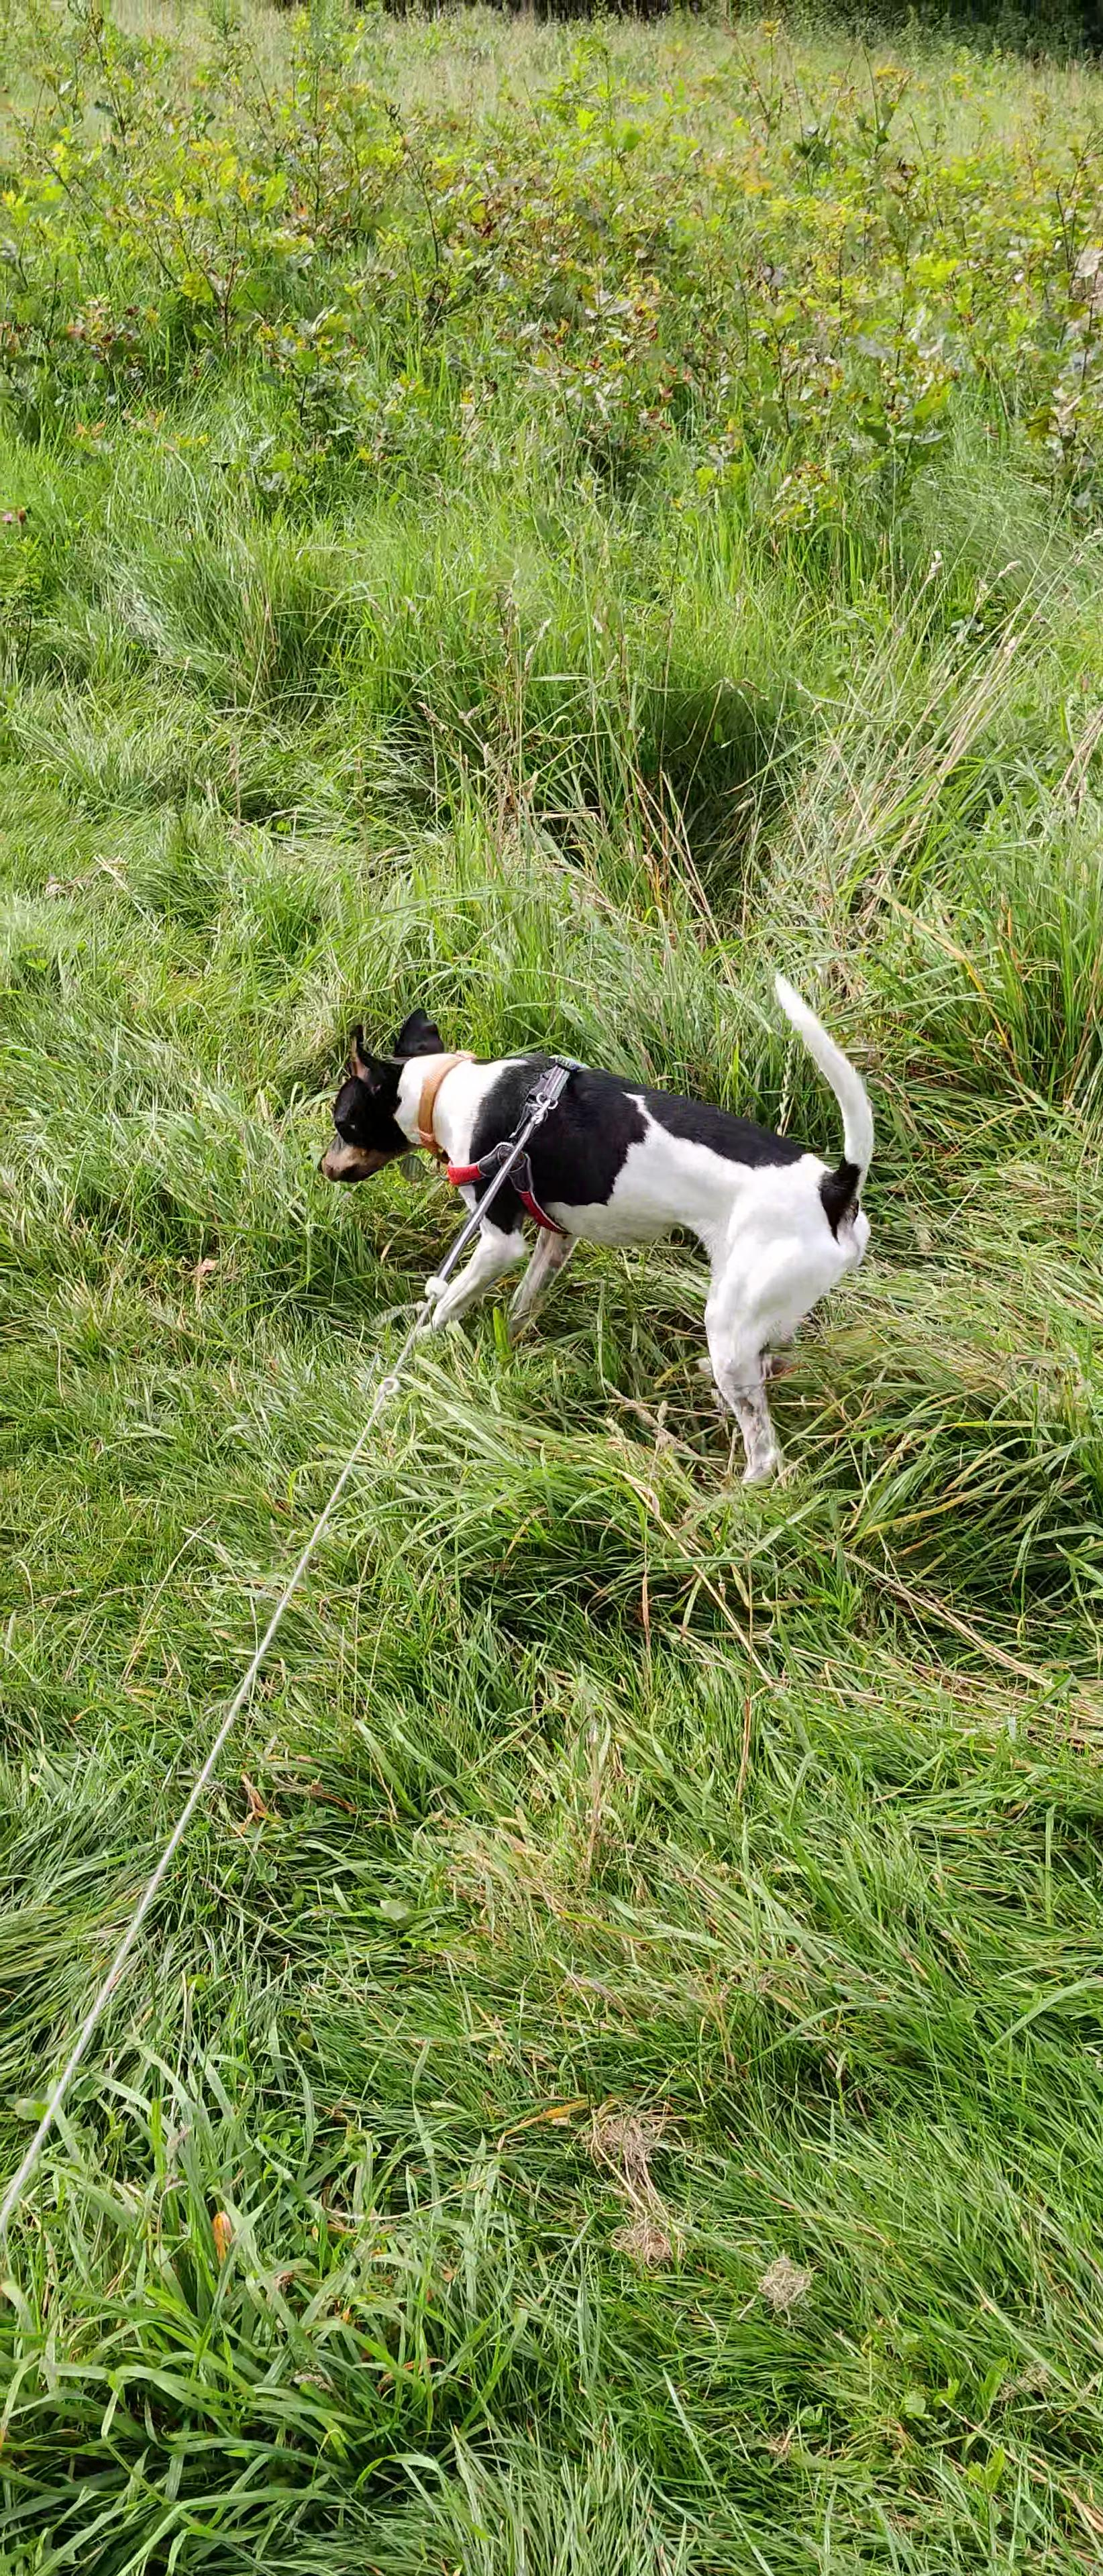Dog: (311, 969, 891, 1492)
